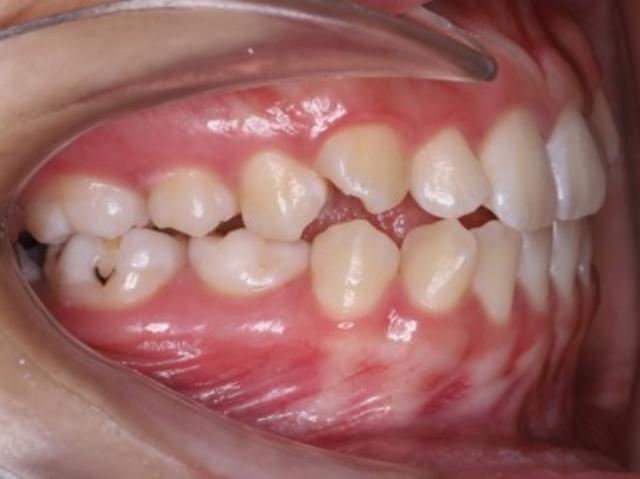canine class III 1/4: (316, 125, 480, 336)
molar class III full class: (18, 168, 312, 312)
